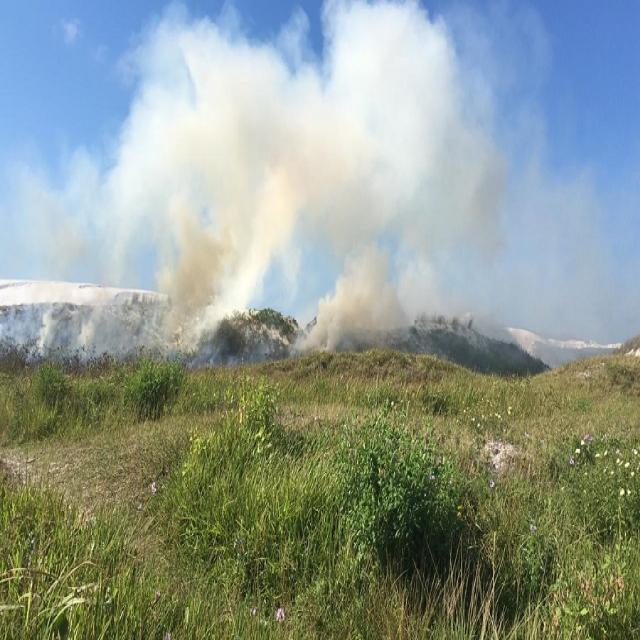Smoke: (180, 74, 470, 232), (151, 243, 230, 339), (318, 276, 396, 341)
